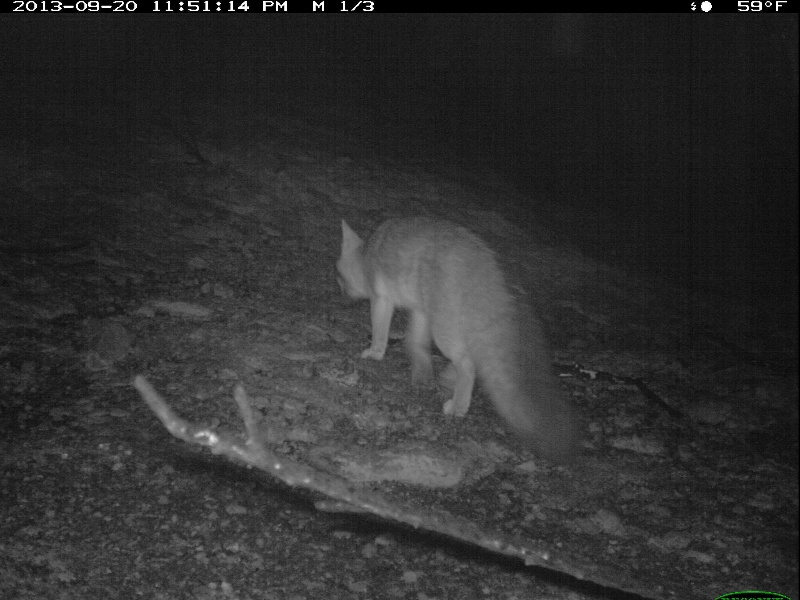coyote: (328, 207, 587, 468)
